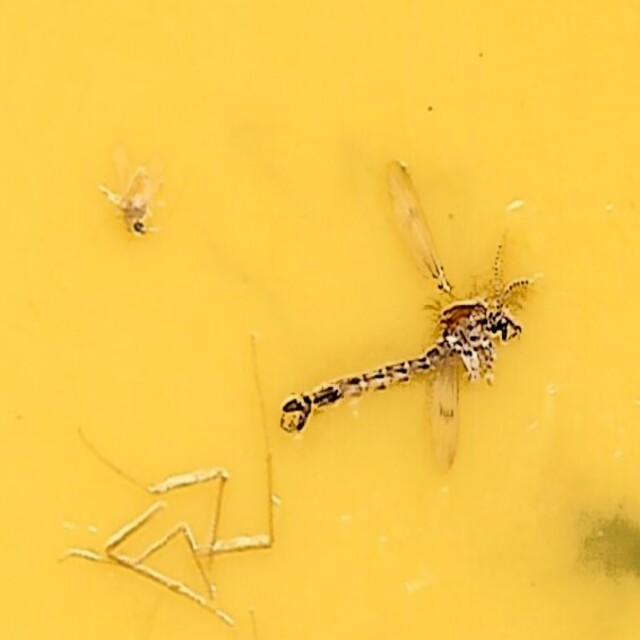Nematocera: (278, 149, 527, 491), (113, 161, 155, 244)
